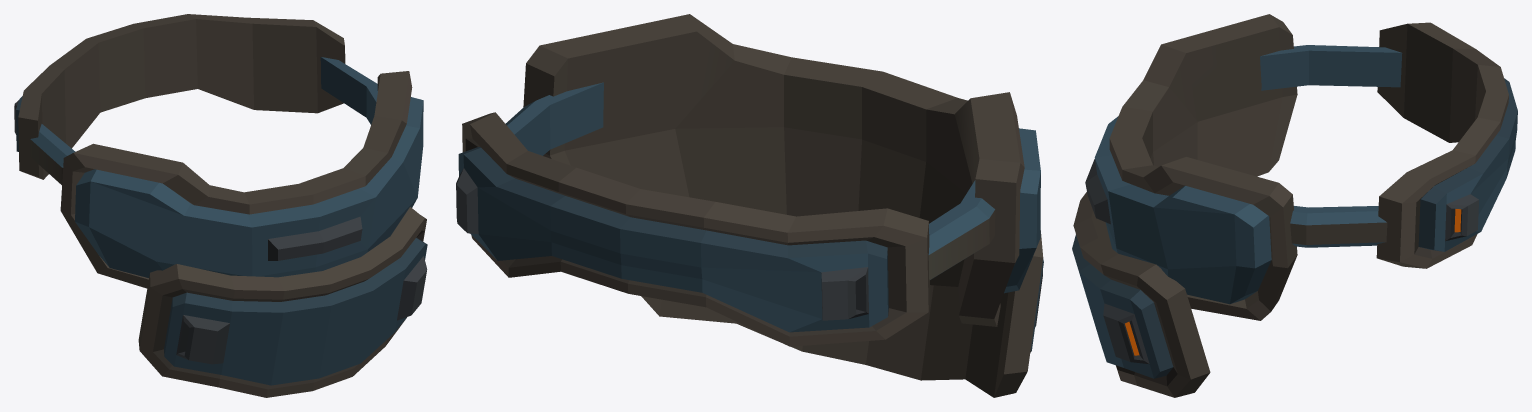
Rendered from SM_Mech_Hips_01_Armor_Belt_03.fbx.
3 views of the same model, side by side, from view 1: azimuth 30°, elevation 25°; view 2: azimuth 150°, elevation 25°; view 3: azimuth 270°, elevation 25° (orthographic). The views are drawn at different scales.
Visible parts, largest first — view 1: SM_Mech_Hips_01_Armor_Belt_03; view 2: SM_Mech_Hips_01_Armor_Belt_03; view 3: SM_Mech_Hips_01_Armor_Belt_03.
Part boxes in pixels (box(x1,y1,x2,y2)): SM_Mech_Hips_01_Armor_Belt_03: box(14, 14, 427, 397); SM_Mech_Hips_01_Armor_Belt_03: box(456, 14, 1043, 397); SM_Mech_Hips_01_Armor_Belt_03: box(1072, 14, 1517, 397).
Size of the model in its own units: 75.83 by 50.44 by 76.32.
